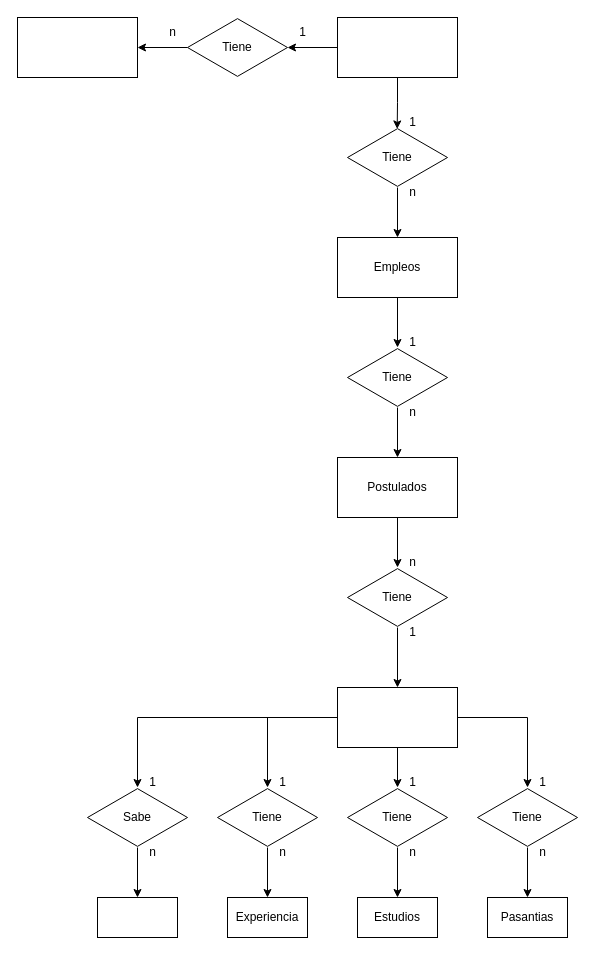
Some shapes in this 595 by 955 pixel diagram are drawn without their labels. Each missing label, with the box of its shape:
Empleado: (336, 686, 458, 748)
Empleador: (16, 16, 138, 78)
Empresa: (336, 16, 458, 78)
Idioma: (96, 896, 178, 938)
